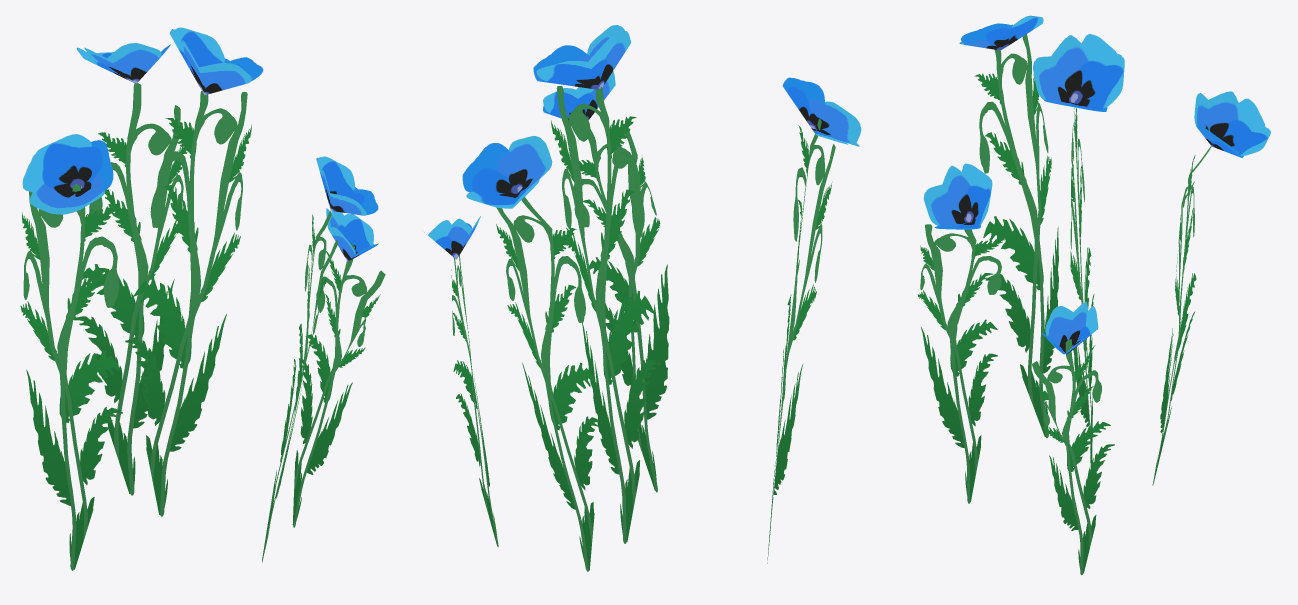
File: flowerBlue.fbx
3 renders of one model, left to right at view 1: azimuth 30°, elevation 25°; view 2: azimuth 150°, elevation 25°; view 3: azimuth 270°, elevation 25°, orthographic. The views are drawn at different scales.
Visible parts, largest first — view 1: PT_Poppy_02_Blue; view 2: PT_Poppy_02_Blue; view 3: PT_Poppy_02_Blue.
Part boxes in pixels (box(x1,y1,x2,y2)): PT_Poppy_02_Blue: box(20, 27, 385, 570); PT_Poppy_02_Blue: box(424, 25, 861, 571); PT_Poppy_02_Blue: box(918, 15, 1270, 575).
Bounding box in the file's own units: 63.17 × 81.91 × 54.09.
